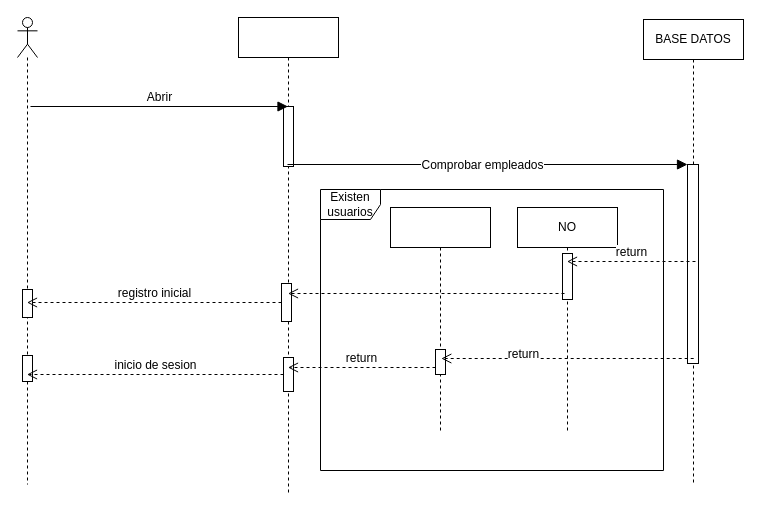
The diagram is 761 pixels wide and 511 high, and some of its shapes have lost their labels. Each missing label, with the centre of its shape:
"SI" belongs at (440,319).
"UI" belongs at (288,255).
